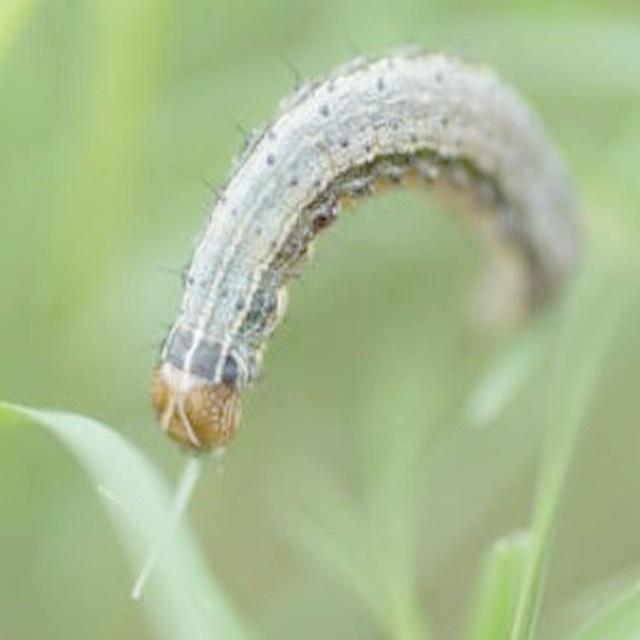gusano_cogollero: (142, 37, 588, 464)
